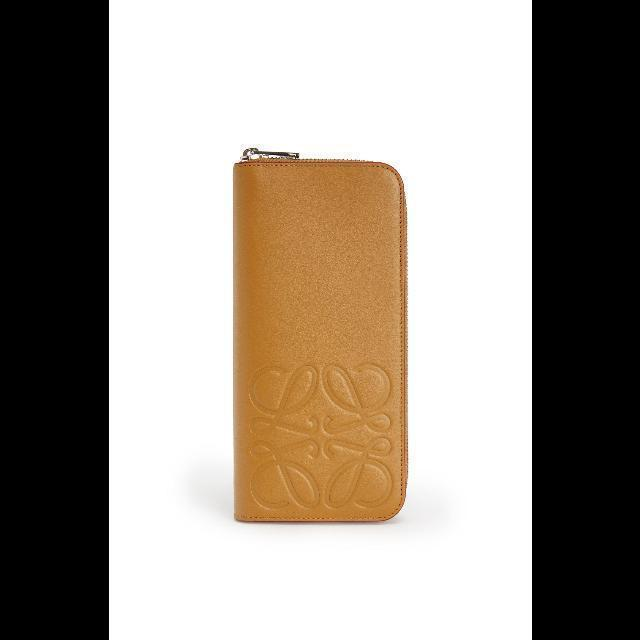wallet: (231, 158, 405, 524)
